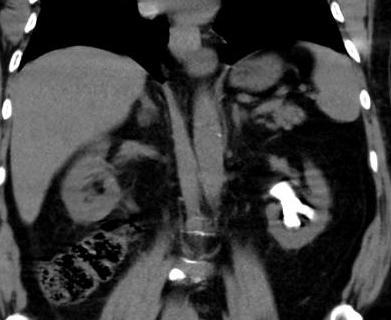Tas_Var: (267, 180, 315, 228), (307, 210, 316, 220)
